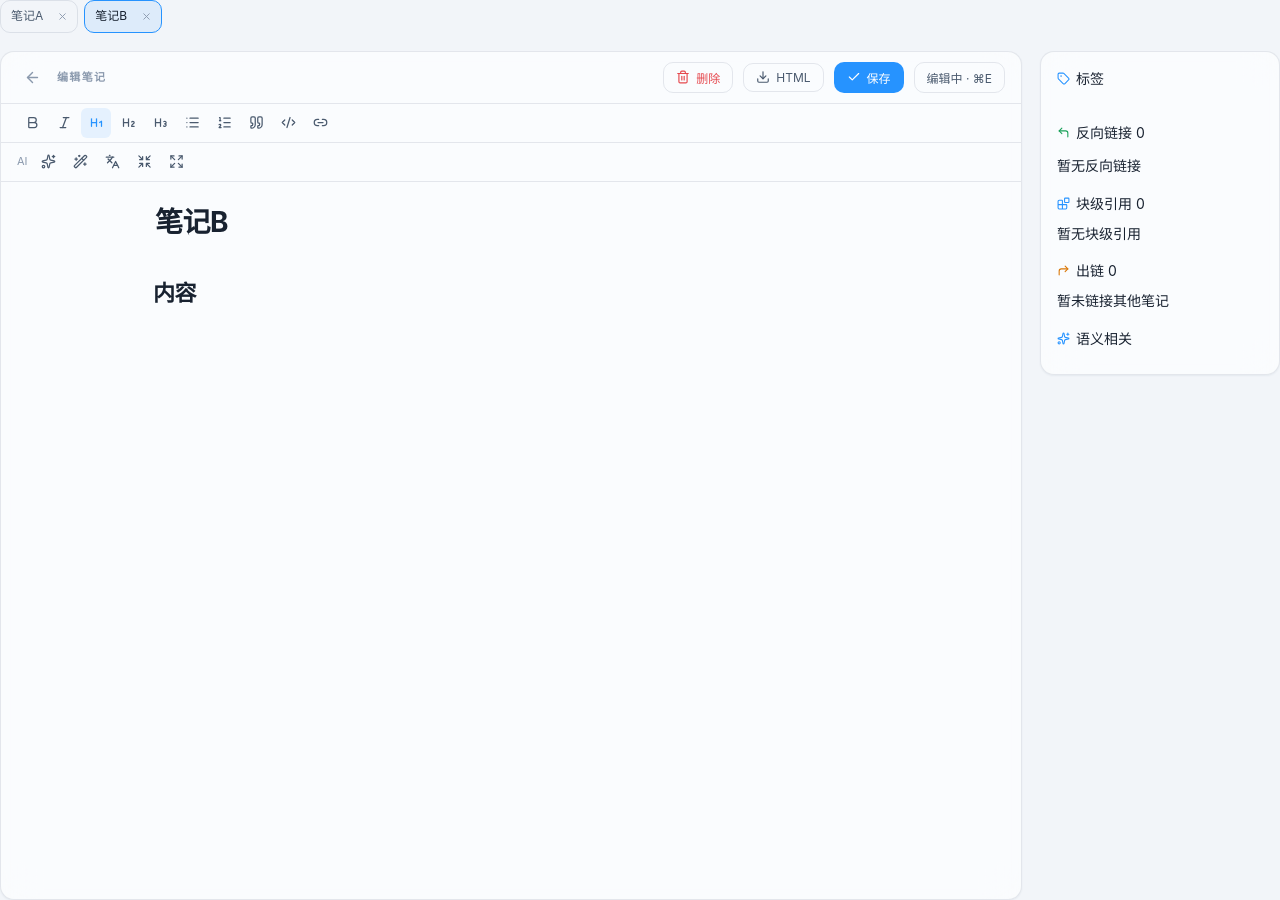
Test case: NotesPage 多标签页 › 通过 selectedId 打开两篇笔记，标签栏出现两个标签页并可切换
The image size is (1280, 900).
Expected: the field showing "笔记B" is shown, x1=153 y1=202 x2=869 y2=238
Click the element with class "lumina-tab" showing "笔记A": (39, 16) x1=0 y1=0 x2=78 y2=33
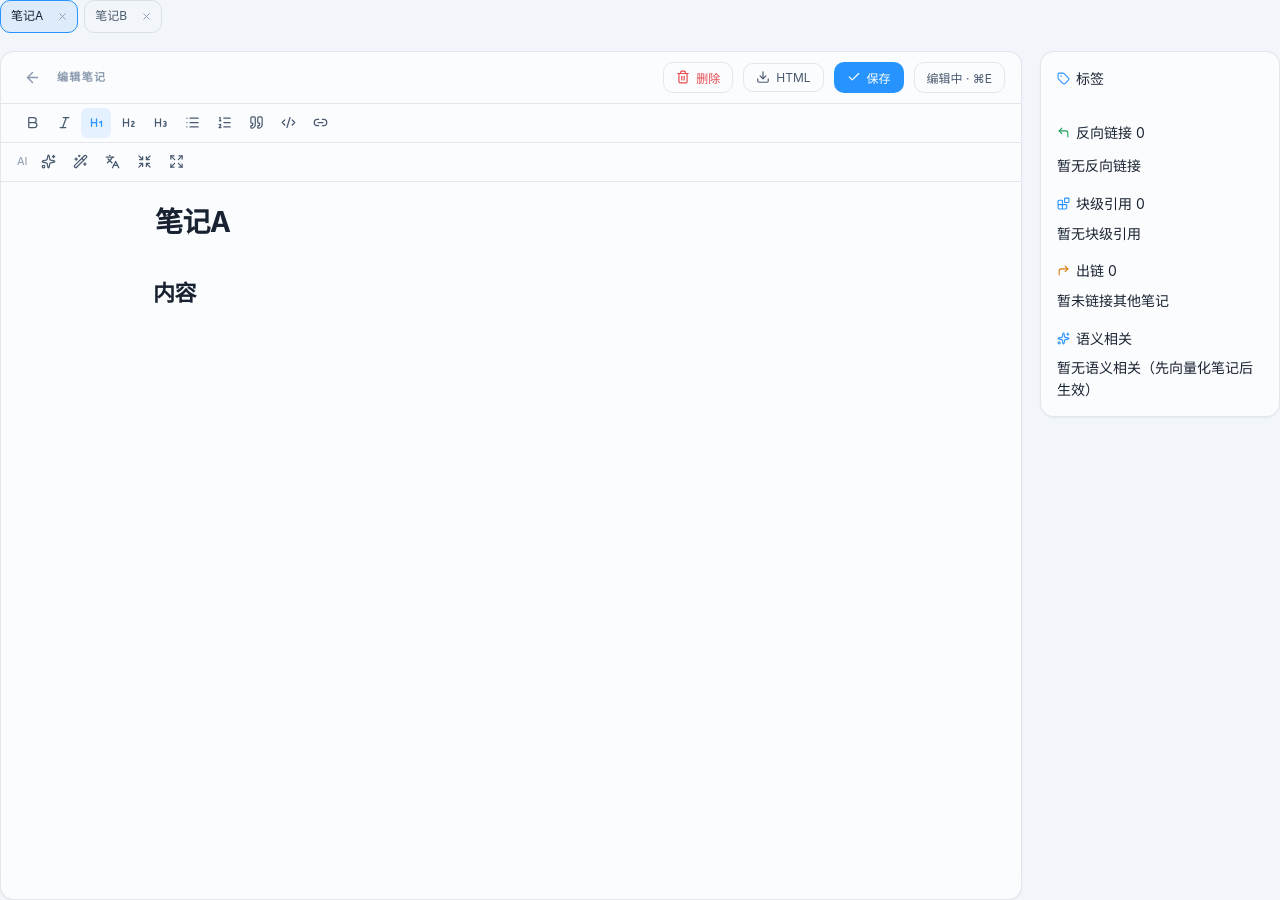
Result: the field showing "笔记A" is shown at x1=153 y1=202 x2=869 y2=238
